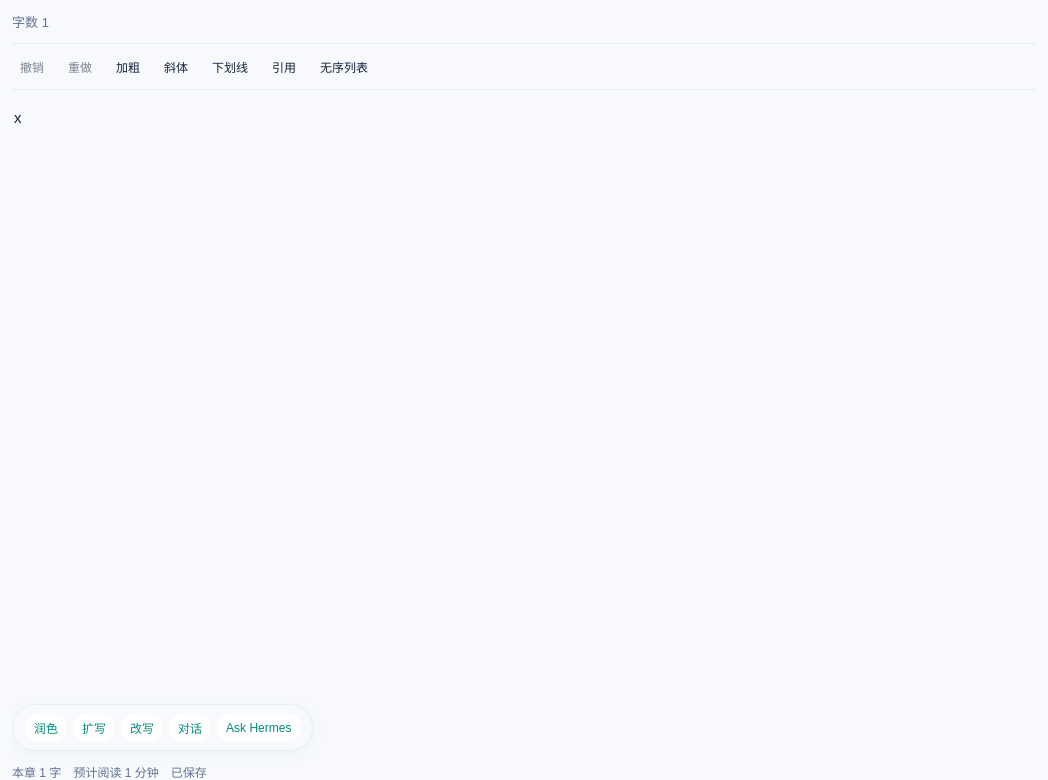
Test: ChapterEditor › ignores a late rejection from an out-of-order earlier save
In the text box named "章节正文": (524, 397) [12,102,1036,692], type "a"
Wait 1600 ms
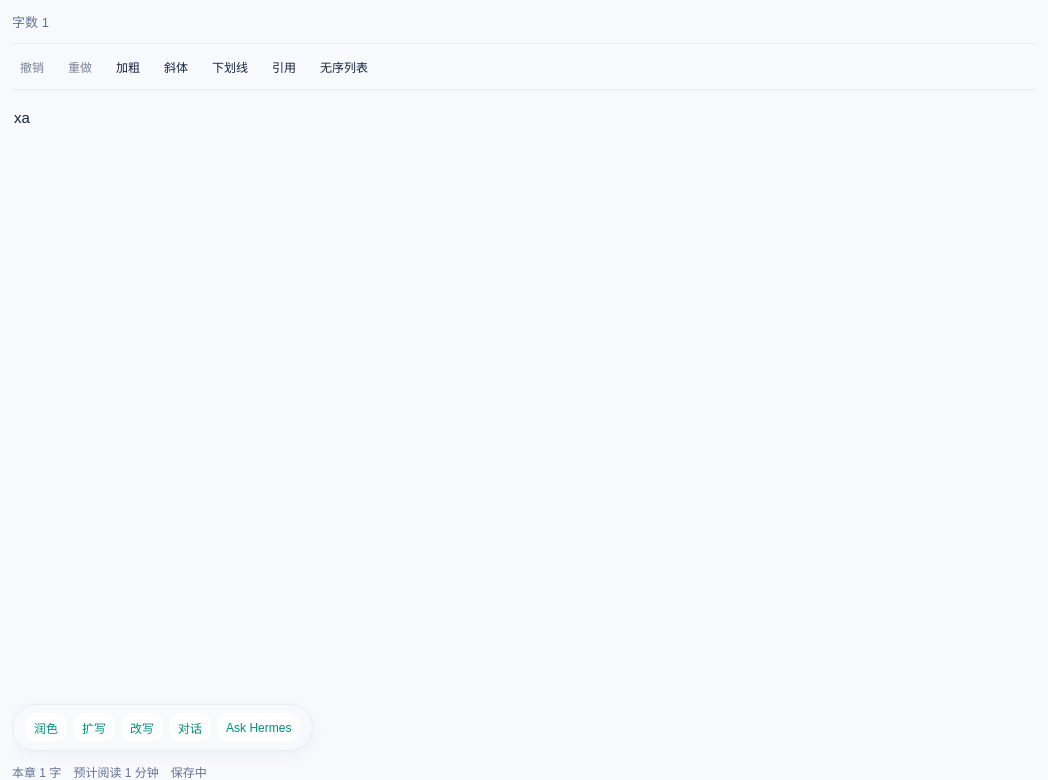
In the text box named "章节正文": (524, 397) [12,102,1036,692], type "b"
Wait 1600 ms
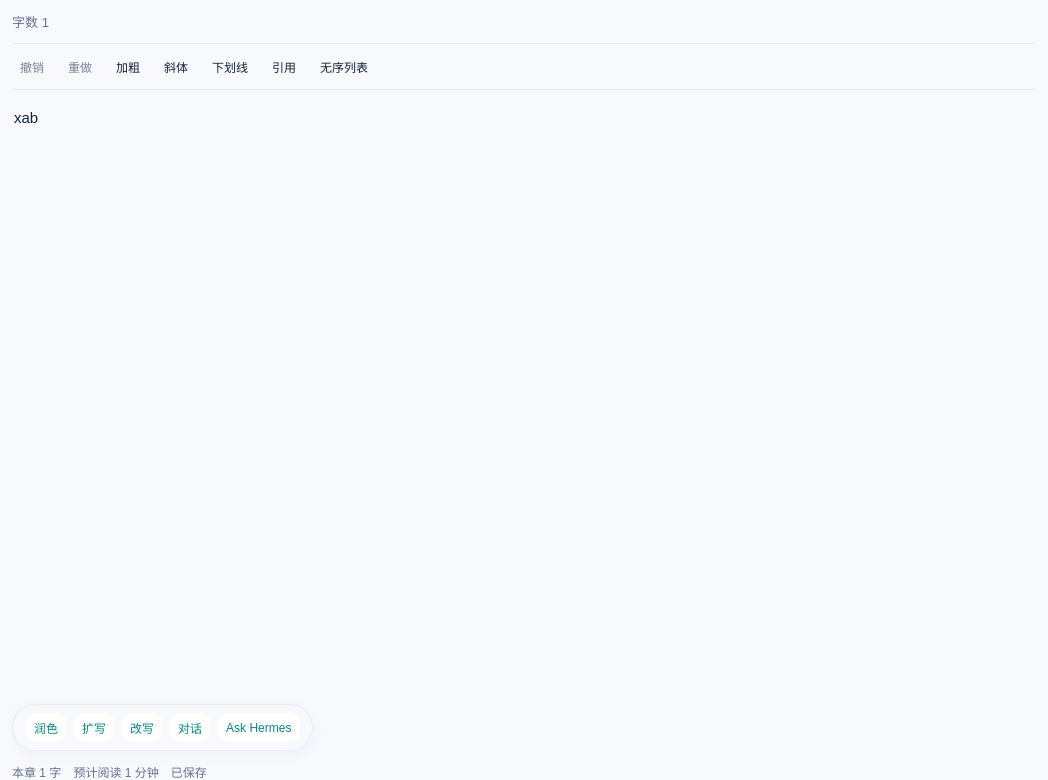
expect the message reads "已保存": met, box [171,766,207,779]
